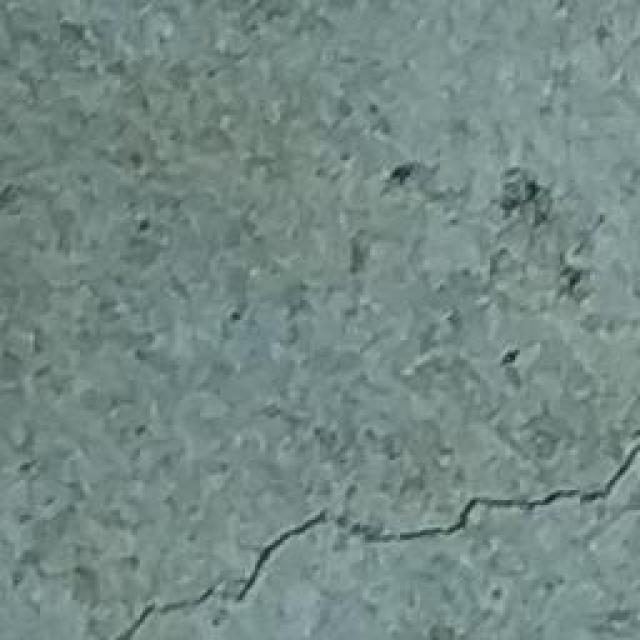Transverse: (55, 445, 640, 640)
